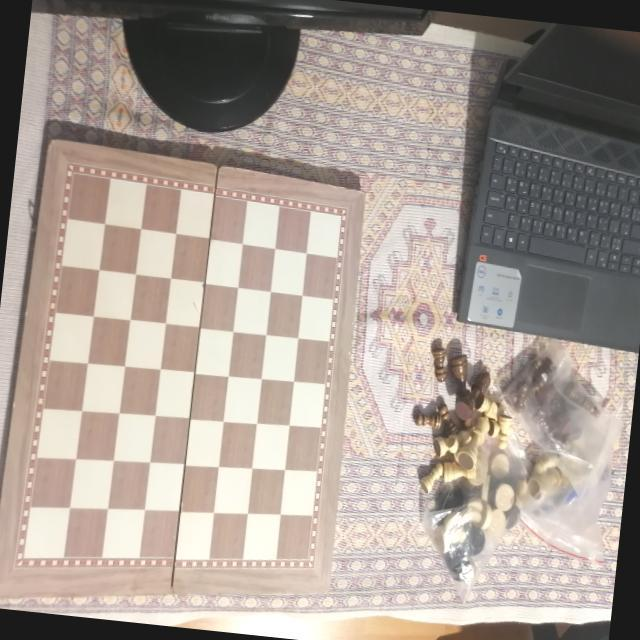corners: (42, 129, 62, 153), (352, 185, 371, 204), (319, 584, 334, 601)
